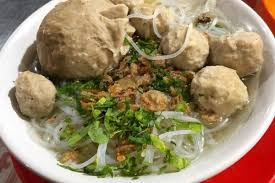bakso: (7, 2, 274, 128)
